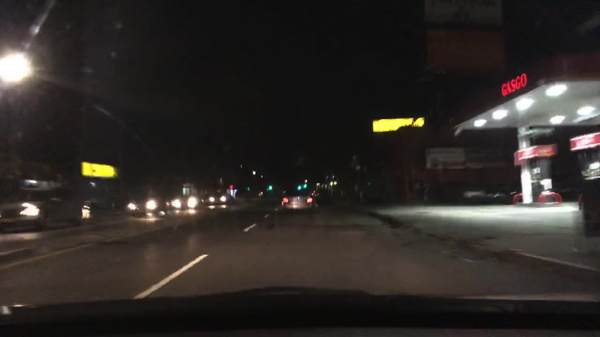car: (0, 187, 83, 232), (125, 191, 175, 218), (510, 184, 563, 204), (281, 188, 313, 214), (460, 188, 509, 204), (172, 194, 210, 210), (550, 182, 578, 200), (314, 190, 336, 206), (209, 194, 227, 206)
traffic light: (297, 185, 301, 191), (268, 185, 272, 191), (303, 184, 307, 189)
